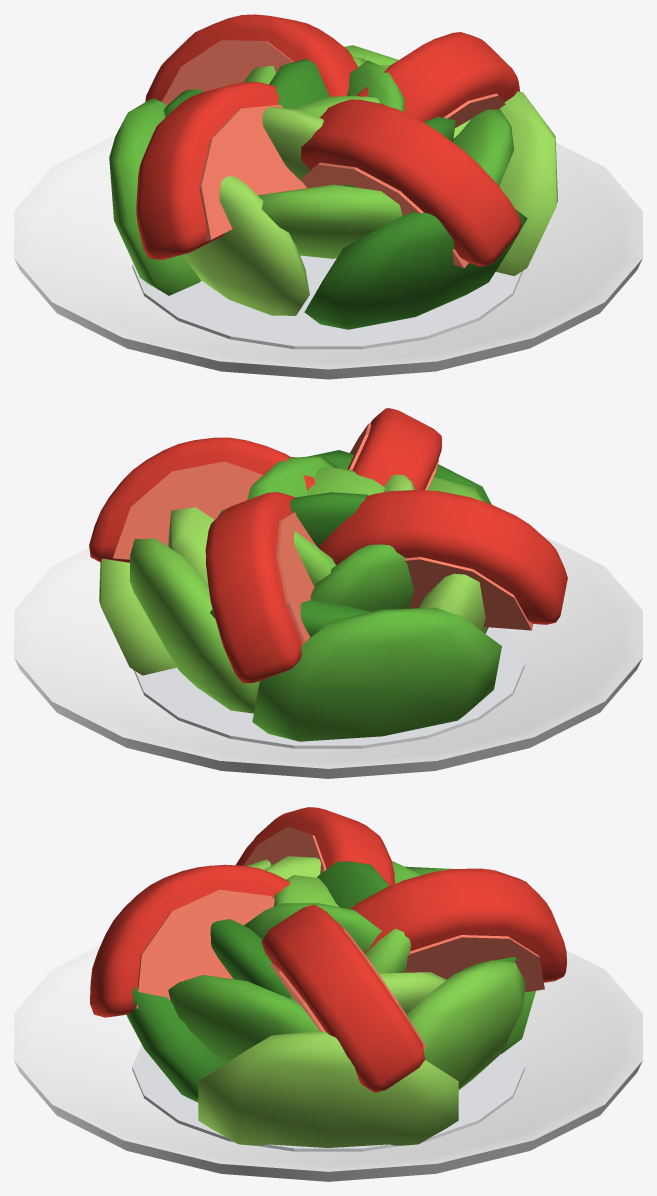
The model's file is dish_salad.glb.
3 views of the same model, one above another, from view 1: azimuth 30°, elevation 25°; view 2: azimuth 150°, elevation 25°; view 3: azimuth 270°, elevation 25° (orthographic).
Visible parts, largest first — view 1: dish_salad; view 2: dish_salad; view 3: dish_salad.
Boxes of the visible parts, left/top/right/bottom form: dish_salad: left=14, top=14, right=642, bottom=379; dish_salad: left=14, top=408, right=642, bottom=778; dish_salad: left=14, top=807, right=642, bottom=1181.
Size of the model in its own units: 0.56 by 0.2401 by 0.5515.
